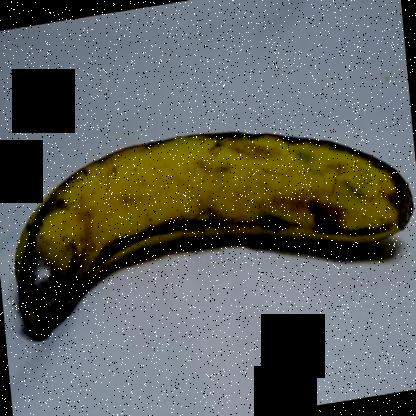ripe: (2, 100, 409, 336)
rotten: (10, 210, 93, 335)
